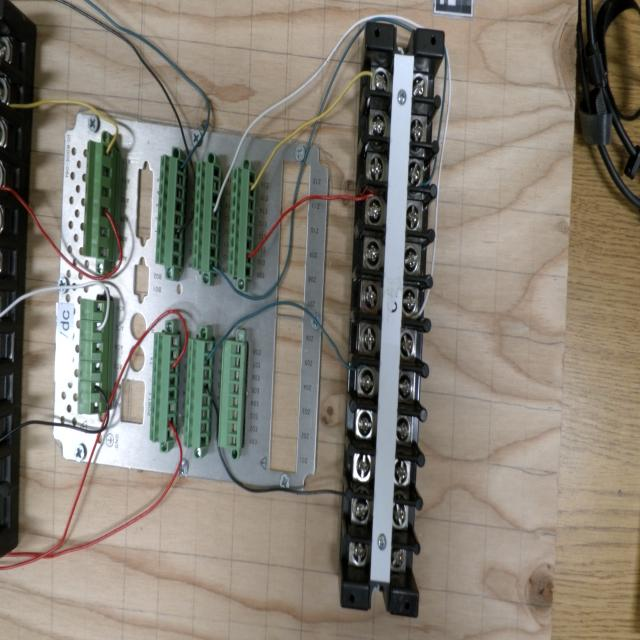Phillips_Block: (341, 23, 444, 617)
Terminal_1: (83, 140, 114, 260), (78, 299, 106, 415)
Terminal_2: (155, 154, 187, 269), (191, 160, 222, 274), (183, 338, 214, 449), (149, 333, 180, 443), (227, 167, 256, 279)
